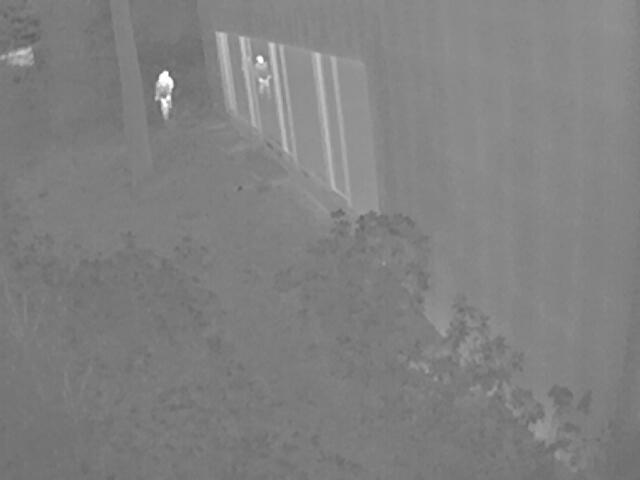person: (153, 71, 173, 121), (254, 55, 273, 101)
